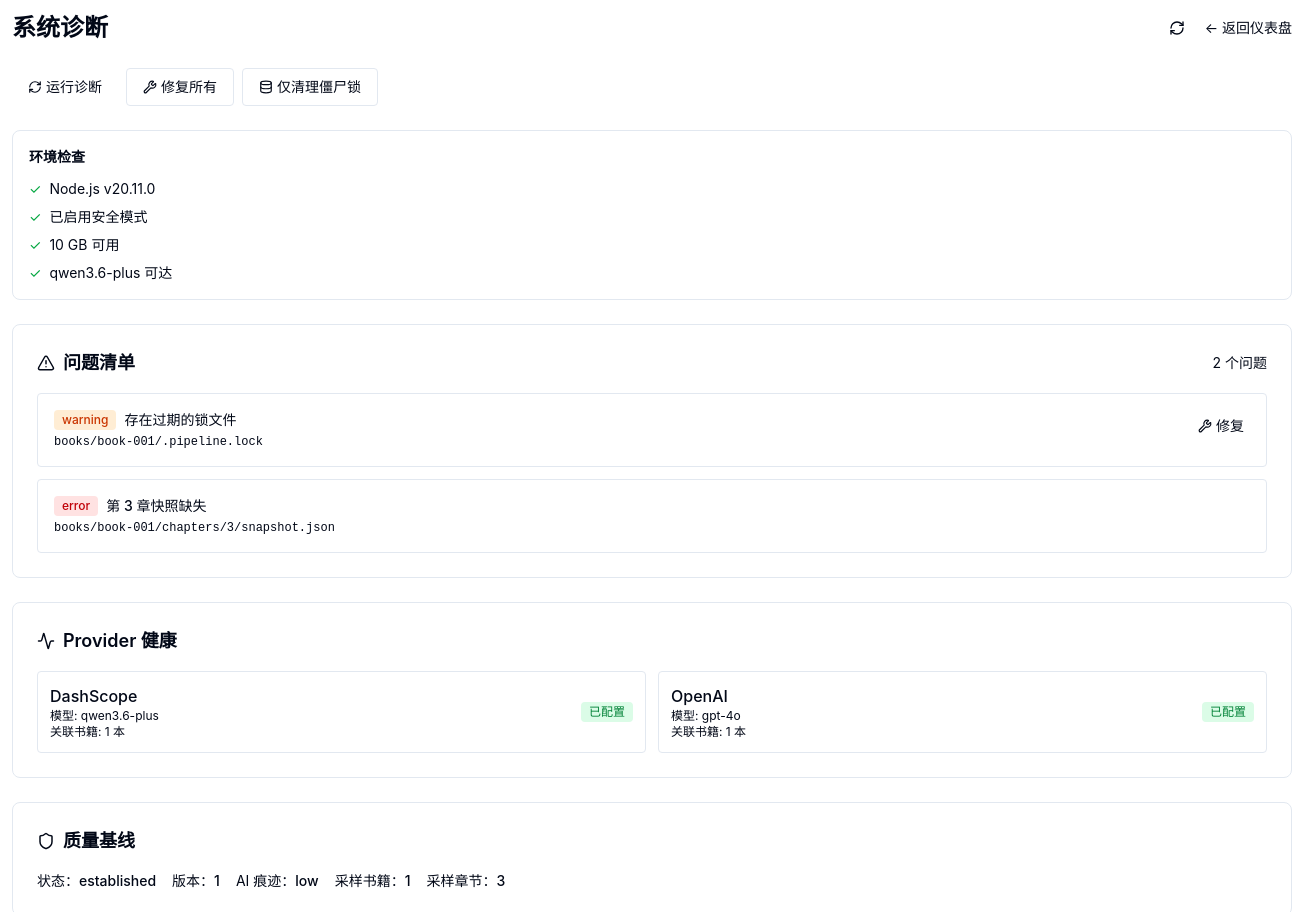
Scenario: DoctorView Page › shows fix result success
Expected: the heading "系统诊断" is shown, [12, 12, 108, 44]
Click the button titled "修复锁".
click(1221, 426)  # box [1192, 410, 1250, 442]
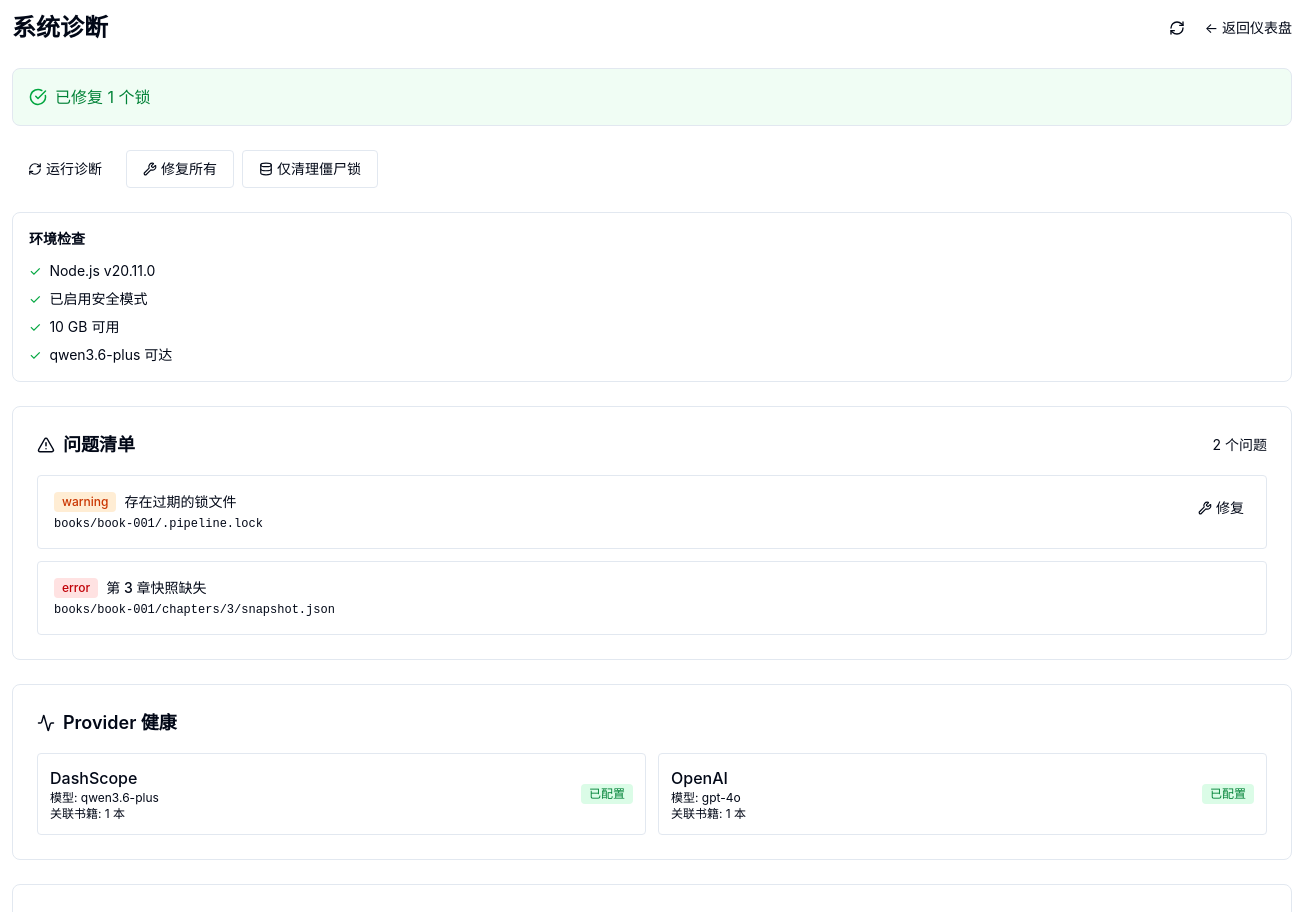
Result: the text "已修复 1 个锁" is shown at [55, 85, 150, 109]
